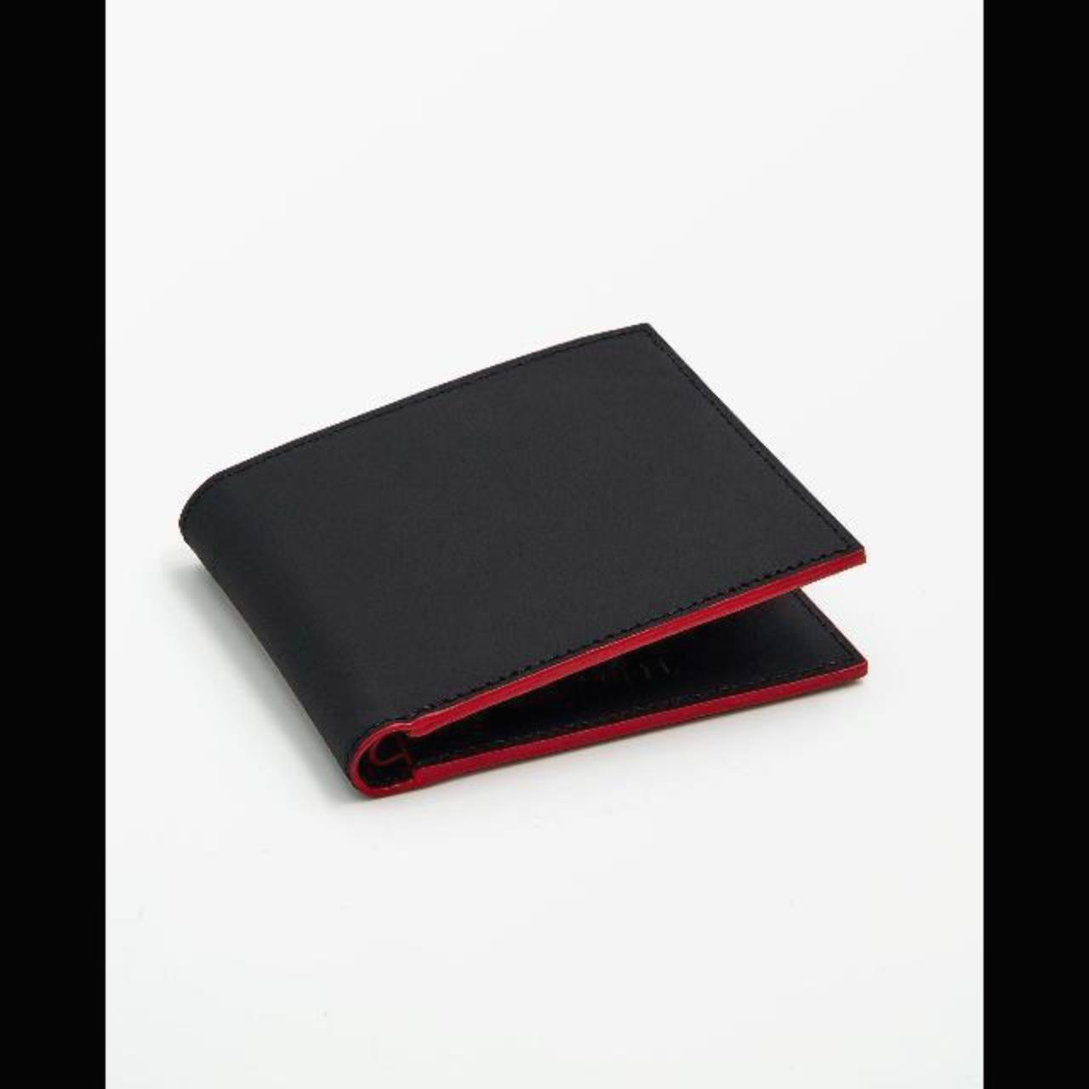wallet: (140, 265, 932, 851)
